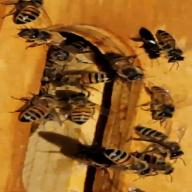Bee: (91, 147, 171, 177), (142, 24, 192, 69), (146, 83, 180, 123), (60, 96, 106, 125), (17, 94, 57, 127), (57, 66, 116, 88), (4, 0, 42, 29), (127, 125, 174, 147)
